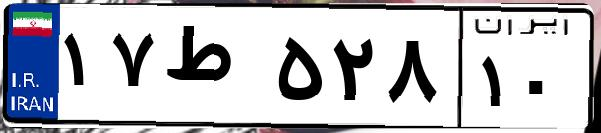0: (525, 38, 570, 115)
1: (57, 26, 110, 100), (475, 38, 525, 113)
2: (330, 28, 385, 110)
5: (270, 28, 330, 110)
7: (110, 28, 158, 98)
8: (385, 28, 445, 110)
ط: (158, 20, 270, 120)
